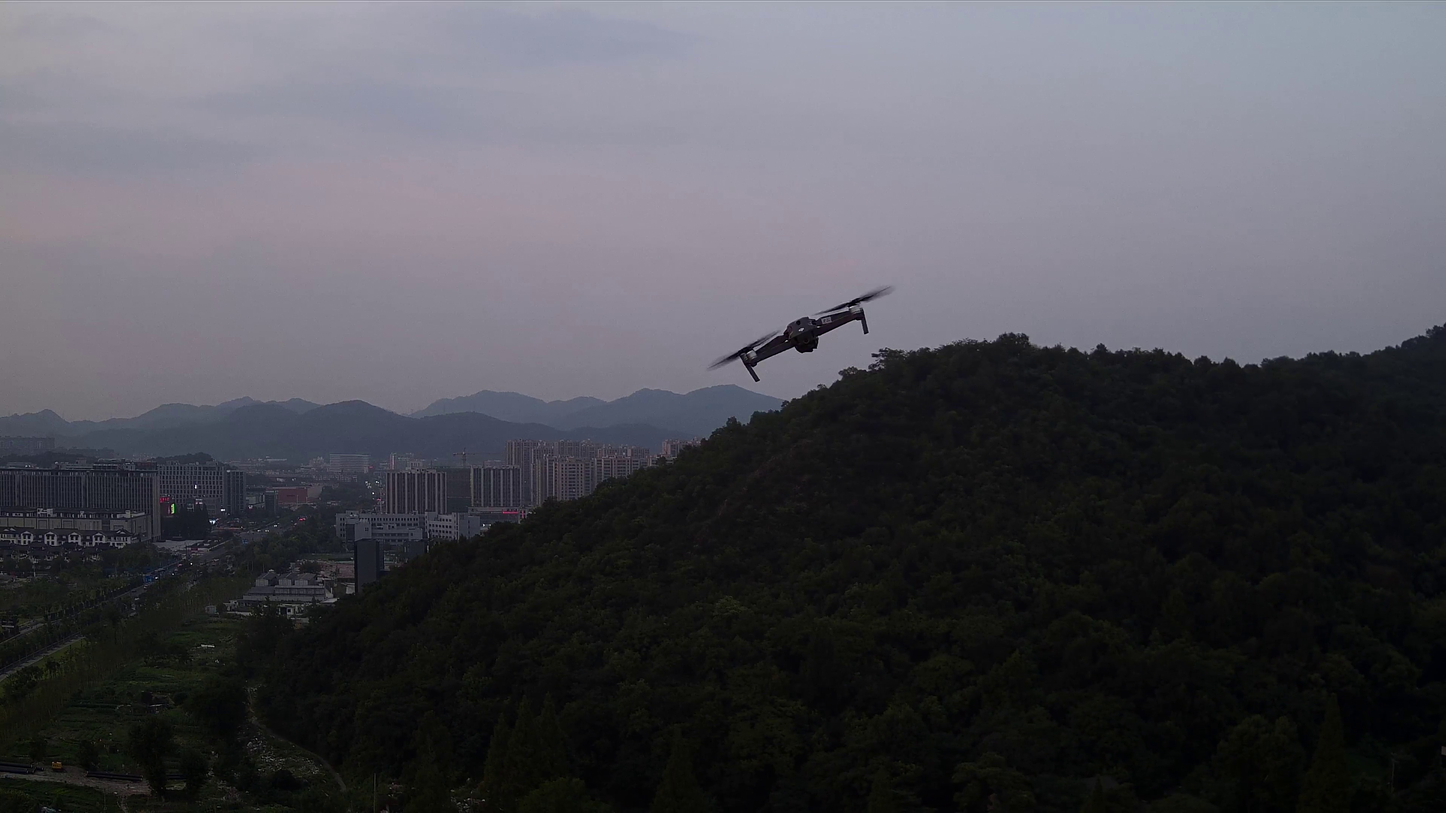UAV: (706, 285, 897, 383)
